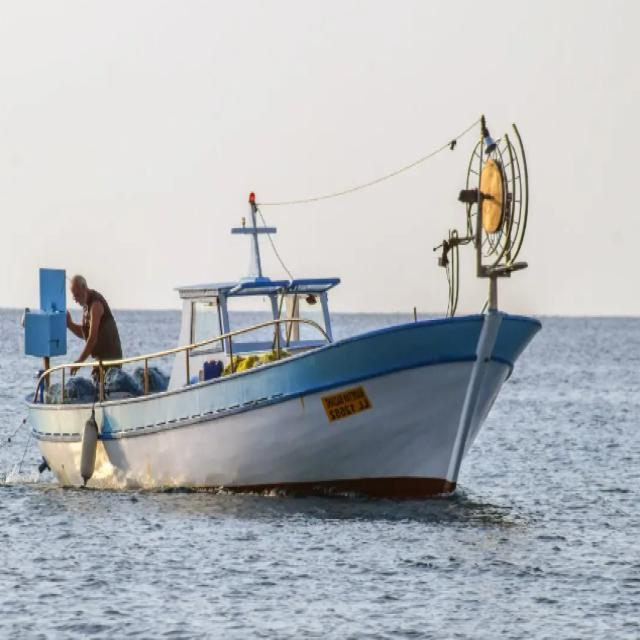fishing boat: (17, 112, 537, 494)
